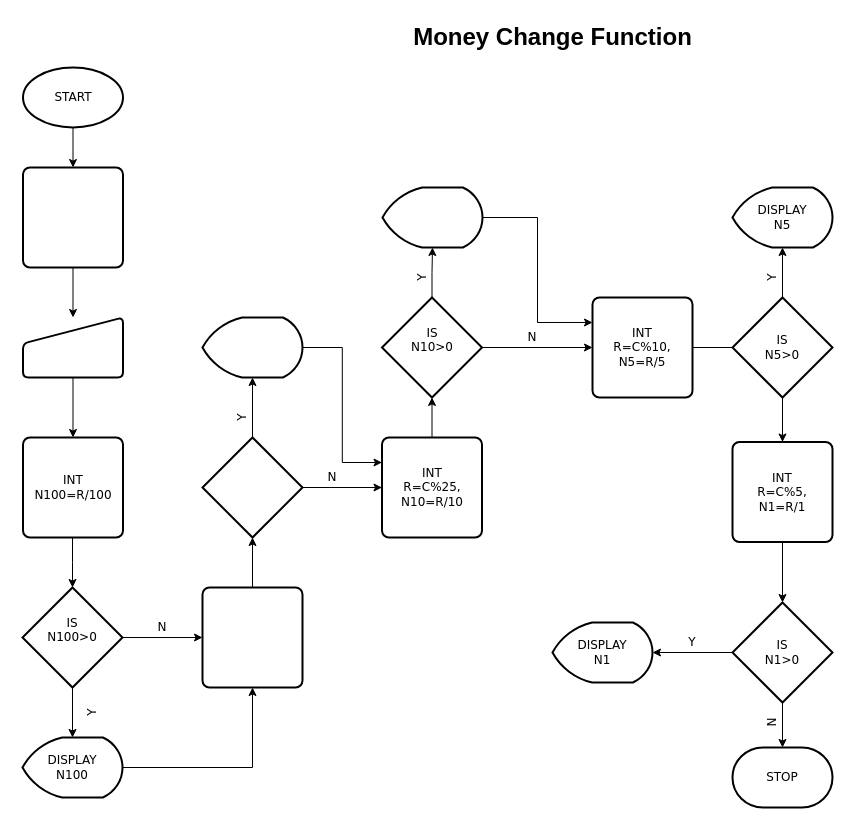
The diagram is 851 pixels wide and 825 high, and some of its shapes have lost their labels. Here are the shapes that lost their labels. From the top down, the box of each, then its label:
(22, 166, 124, 268): INT C{0}, R{C}
(381, 186, 483, 248): DISPLAY N10
(22, 316, 124, 378): INPUT C
(201, 316, 303, 378): DISPLAY N25
(201, 436, 303, 538): IS N25>0
(201, 586, 303, 688): INT R=C%100, N25=R/25
